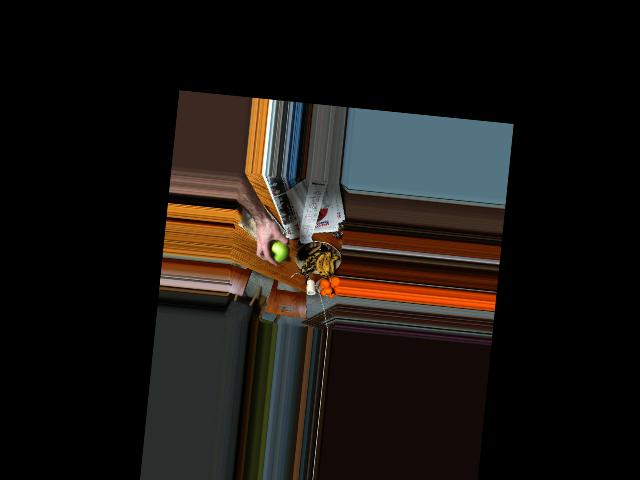apple: (264, 237, 290, 266)
